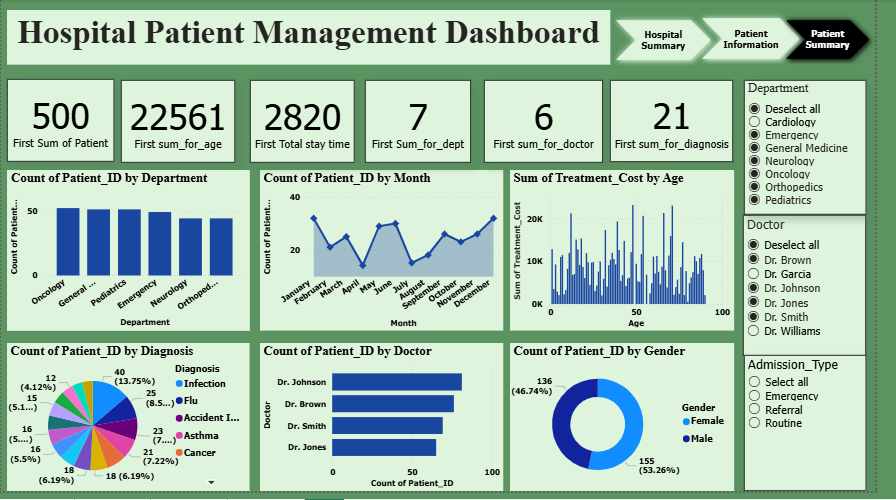

Layout of this report page (visuals, bound fields, positions):
{"tool":"powerbi","page":{"name":"Page 4","canvas":[1280,720],"ordinal":3},"visuals":[{"type":"card","fields":{"Values":["Min(hospital_patient_management_dataset.Sum of Patient)"]},"box":[8.8,117.1,156.6,121.5],"z":0},{"type":"card","fields":{"Values":["Min(hospital_patient_management_dataset.sum_for_age)"]},"box":[175.9,118.3,166.8,121.3],"z":1000},{"type":"columnChart","fields":{"Category":["hospital_patient_management.Department"],"Y":["CountNonNull(hospital_patient_management.Patient_ID)"]},"box":[9.1,250.2,354.9,235.1],"z":2000},{"type":"lineChart","fields":{"Y":["CountNonNull(hospital_patient_management.Patient_ID)"],"Category":["hospital_patient_management.Admission_Date.Variation.Date Hierarchy.Month"]},"box":[379.1,250.2,356.4,235.1],"z":3000},{"type":"pieChart","fields":{"Category":["hospital_patient_management.Diagnosis"],"Y":["CountNonNull(hospital_patient_management.Patient_ID)"]},"box":[9.1,503.5,354.9,216.9],"z":4000},{"type":"donutChart","fields":{"Category":["hospital_patient_management.Gender"],"Y":["CountNonNull(hospital_patient_management.Patient_ID)"]},"box":[744.6,503.5,327.6,216.9],"z":5000},{"type":"barChart","fields":{"Category":["hospital_patient_management.Doctor"],"Y":["CountNonNull(hospital_patient_management.Patient_ID)"]},"box":[379.1,503.5,356.4,216.9],"z":6000},{"type":"listSlicer","fields":{"Values":["hospital_patient_management_dataset.Doctor"]},"box":[1085.9,315.5,180.5,206.3],"z":7000},{"type":"card","fields":{"Values":["Min(hospital_patient_management_dataset.Sum_for_dept)"]},"box":[532.3,118.3,154.7,121.3],"z":8000},{"type":"textbox","box":[9.1,16.7,882.7,80.4],"z":9000},{"type":"card","fields":{"Values":["Min(hospital_patient_management_dataset.Total stay time)"]},"box":[364,118.3,153.2,121.3],"z":10000},{"type":"card","fields":{"Values":["Min(hospital_patient_management_dataset.sum_for_doctor)"]},"box":[706.7,118.3,174.4,121.3],"z":11000},{"type":"card","fields":{"Values":["Min(hospital_patient_management_dataset.sum_for_diagnosis)"]},"box":[891.8,118.3,180.5,119.8],"z":12000},{"type":"listSlicer","fields":{"Values":["hospital_patient_management_dataset.Admission_Type"]},"box":[1087.4,521.7,179,198.7],"z":13000},{"type":"listSlicer","fields":{"Values":["hospital_patient_management_dataset.Department"]},"box":[1087.4,118.3,179,197.2],"z":14000},{"type":"shape","box":[891.8,21.2,156.2,75.8],"z":15000},{"type":"shape","box":[1017.6,19.7,160.8,77.3],"z":16000},{"type":"columnChart","fields":{"Y":["Sum(hospital_patient_management_dataset.Treatment_Cost)"],"Category":["hospital_patient_management_dataset.Age"]},"box":[744.6,250.2,327.6,235.1],"z":17000},{"type":"shape","box":[1140.5,21.2,139.5,74.3],"z":18000}]}

Visuals, with their boxes in screenshot pixels (x1, y1, x2, y2), scaled from the page's 1280x720 canvas onto the 896x500 screenshot:
card - Min(hospital_patient_management_dataset.Sum of Patient): x1=6, y1=81, x2=116, y2=166
card - Min(hospital_patient_management_dataset.sum_for_age): x1=123, y1=82, x2=240, y2=166
columnChart - hospital_patient_management.Department x CountNonNull(hospital_patient_management.Patient_ID): x1=6, y1=174, x2=255, y2=337
lineChart - CountNonNull(hospital_patient_management.Patient_ID) x hospital_patient_management.Admission_Date.Variation.Date Hierarchy.Month: x1=265, y1=174, x2=515, y2=337
pieChart - hospital_patient_management.Diagnosis x CountNonNull(hospital_patient_management.Patient_ID): x1=6, y1=350, x2=255, y2=499
donutChart - hospital_patient_management.Gender x CountNonNull(hospital_patient_management.Patient_ID): x1=521, y1=350, x2=751, y2=499
barChart - hospital_patient_management.Doctor x CountNonNull(hospital_patient_management.Patient_ID): x1=265, y1=350, x2=515, y2=499
listSlicer - hospital_patient_management_dataset.Doctor: x1=760, y1=219, x2=886, y2=362
card - Min(hospital_patient_management_dataset.Sum_for_dept): x1=373, y1=82, x2=481, y2=166
textbox: x1=6, y1=12, x2=624, y2=67
card - Min(hospital_patient_management_dataset.Total stay time): x1=255, y1=82, x2=362, y2=166
card - Min(hospital_patient_management_dataset.sum_for_doctor): x1=495, y1=82, x2=617, y2=166
card - Min(hospital_patient_management_dataset.sum_for_diagnosis): x1=624, y1=82, x2=751, y2=165
listSlicer - hospital_patient_management_dataset.Admission_Type: x1=761, y1=362, x2=886, y2=499
listSlicer - hospital_patient_management_dataset.Department: x1=761, y1=82, x2=886, y2=219
shape: x1=624, y1=15, x2=734, y2=67
shape: x1=712, y1=14, x2=825, y2=67
columnChart - Sum(hospital_patient_management_dataset.Treatment_Cost) x hospital_patient_management_dataset.Age: x1=521, y1=174, x2=751, y2=337
shape: x1=798, y1=15, x2=895, y2=66
